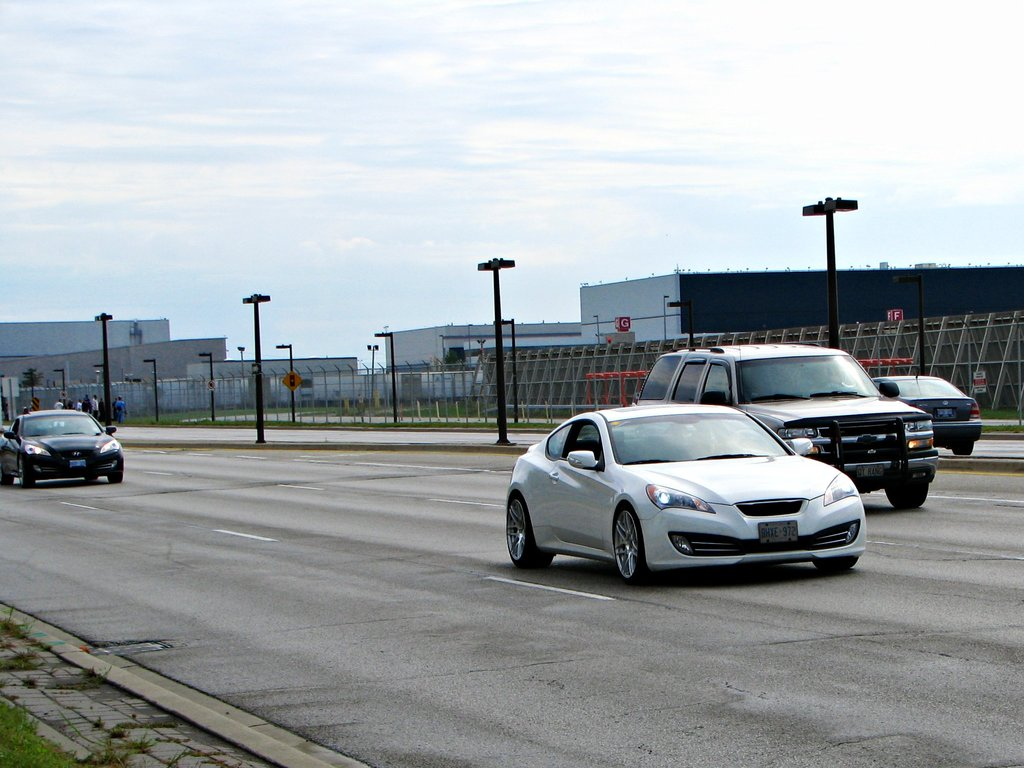Car: (625, 344, 936, 509), (867, 371, 984, 455), (0, 410, 120, 488)
